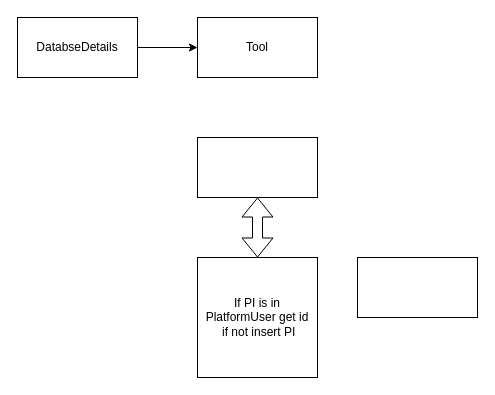
Image size: 495x395. Some labels were removed from this diagram. The centre of each missing label's shape, as x and y in pixels:
"if" belongs at pixel 417 287.
"PlatformUser" belongs at pixel 257 167.
